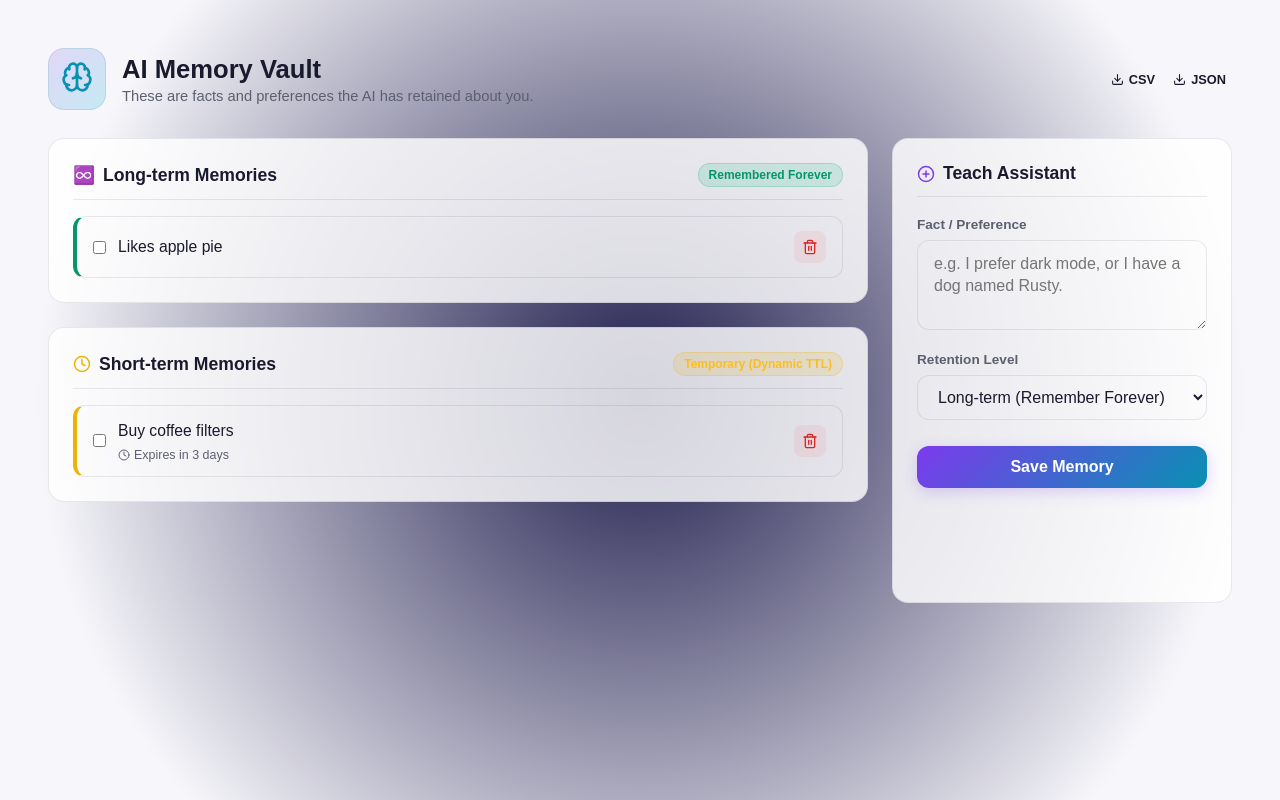
Test: MemoryPane Component Tests › bulk delete › the bulk toolbar only appears once a memory is selected, sharing selection across both lists
The width and height of the screenshot is (1280, 800).
Expected: the text "selected" is not shown
Click the checkbox named "Select memory: Likes apple pie": (100, 247) [93, 240, 106, 254]
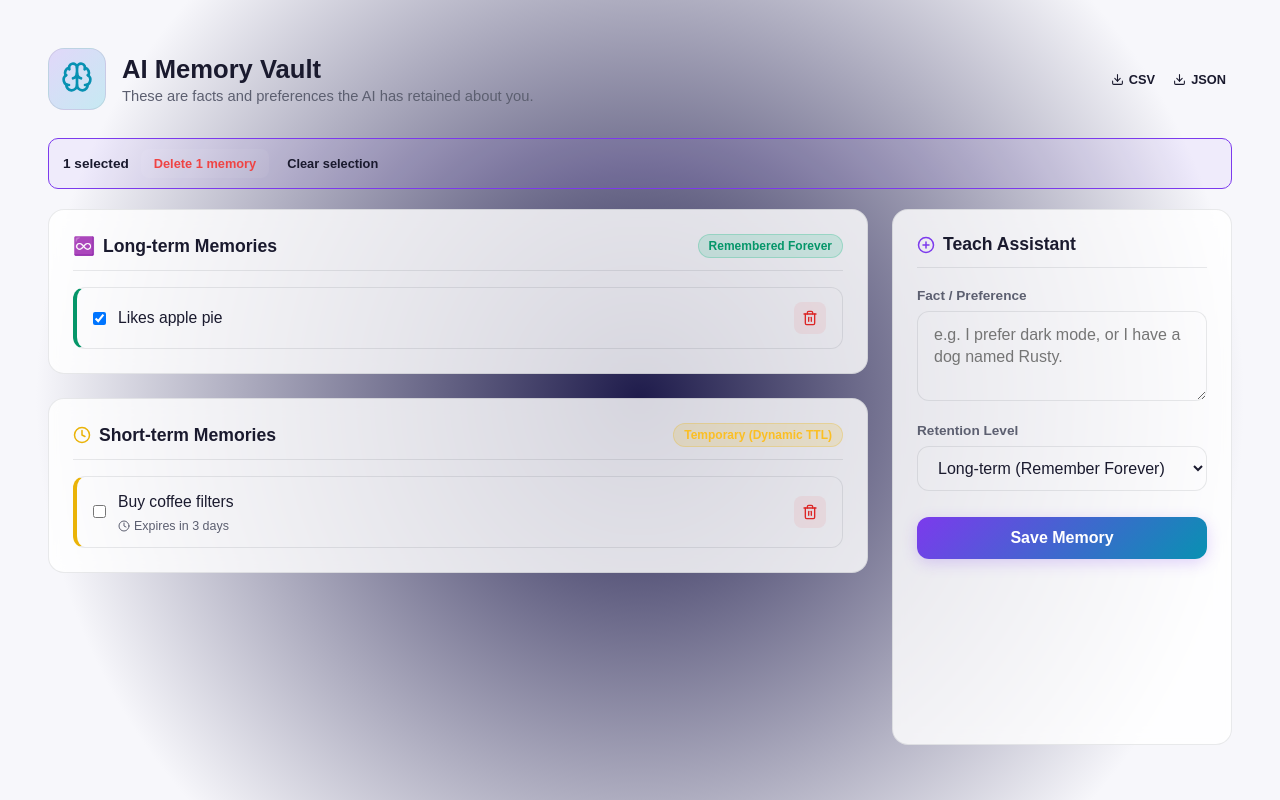
Now the text "1 selected" is shown, box [63, 156, 129, 171]
Click the checkbox named "Select memory: Buy coffee filters": (100, 512) [93, 506, 106, 518]
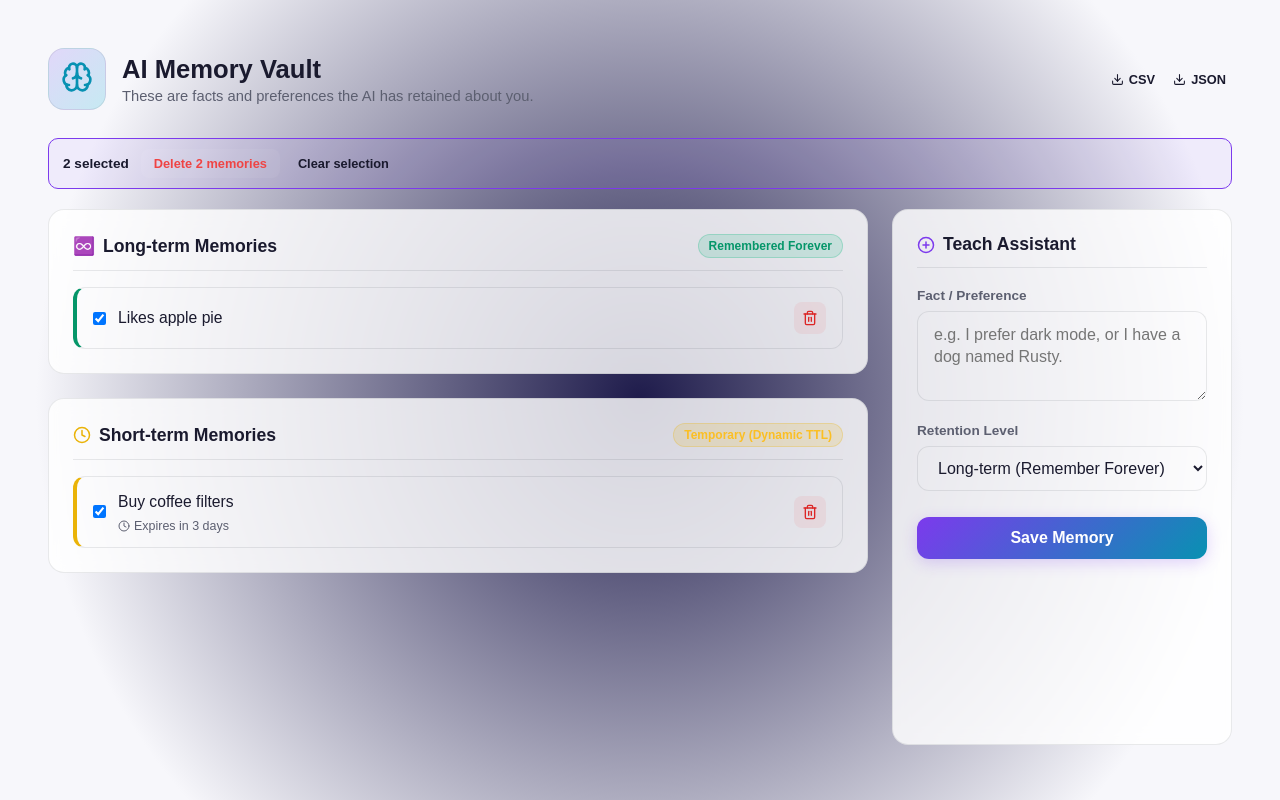
Now the text "2 selected" is shown, box [63, 156, 129, 171]
Now the button "Delete 2 memories" is shown, box [141, 149, 280, 178]
